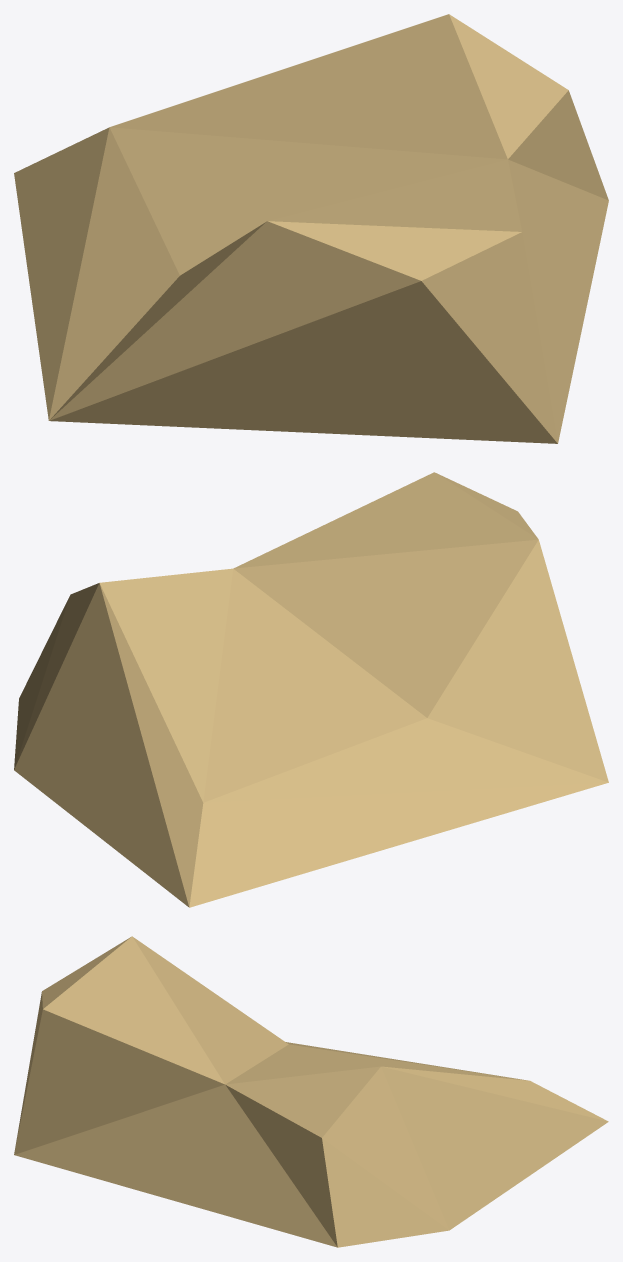
Rendered from Rock_1_low.fbx.
The picture shows the model from 3 angles, top to bottom: view 1: azimuth 30°, elevation 25°; view 2: azimuth 150°, elevation 25°; view 3: azimuth 270°, elevation 25°; orthographic projection. The views are drawn at different scales.
Parts seen in each view (by area): view 1: Stone_1_low; view 2: Stone_1_low; view 3: Stone_1_low.
Part boxes in pixels (left/top/right/bottom): Stone_1_low: left=14, top=14, right=608, bottom=443; Stone_1_low: left=14, top=472, right=608, bottom=907; Stone_1_low: left=14, top=936, right=608, bottom=1247.
Bounding box in the file's own units: 1.14 × 0.3788 × 1.31.
